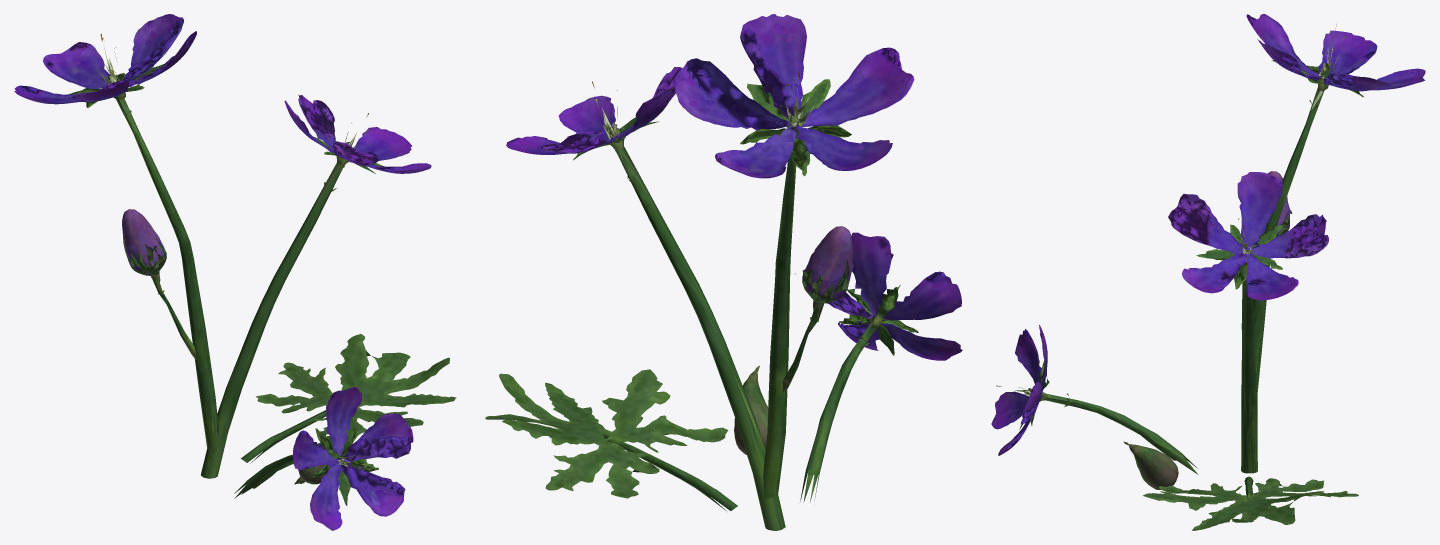
The picture shows the model from 3 angles, left to right: view 1: azimuth 30°, elevation 25°; view 2: azimuth 150°, elevation 25°; view 3: azimuth 270°, elevation 25°; orthographic projection. The views are drawn at different scales.
Visible parts, largest first — view 1: e2b49bd9; view 2: e2b49bd9; view 3: e2b49bd9.
Boxes of the visible parts, left/top/right/bottom form: e2b49bd9: left=14, top=14, right=456, bottom=530; e2b49bd9: left=485, top=14, right=962, bottom=530; e2b49bd9: left=991, top=14, right=1425, bottom=530.
Bounding box in the file's own units: 0.0749 × 0.0828 × 0.0766.
Materials: 1 (1 with a texture image).
